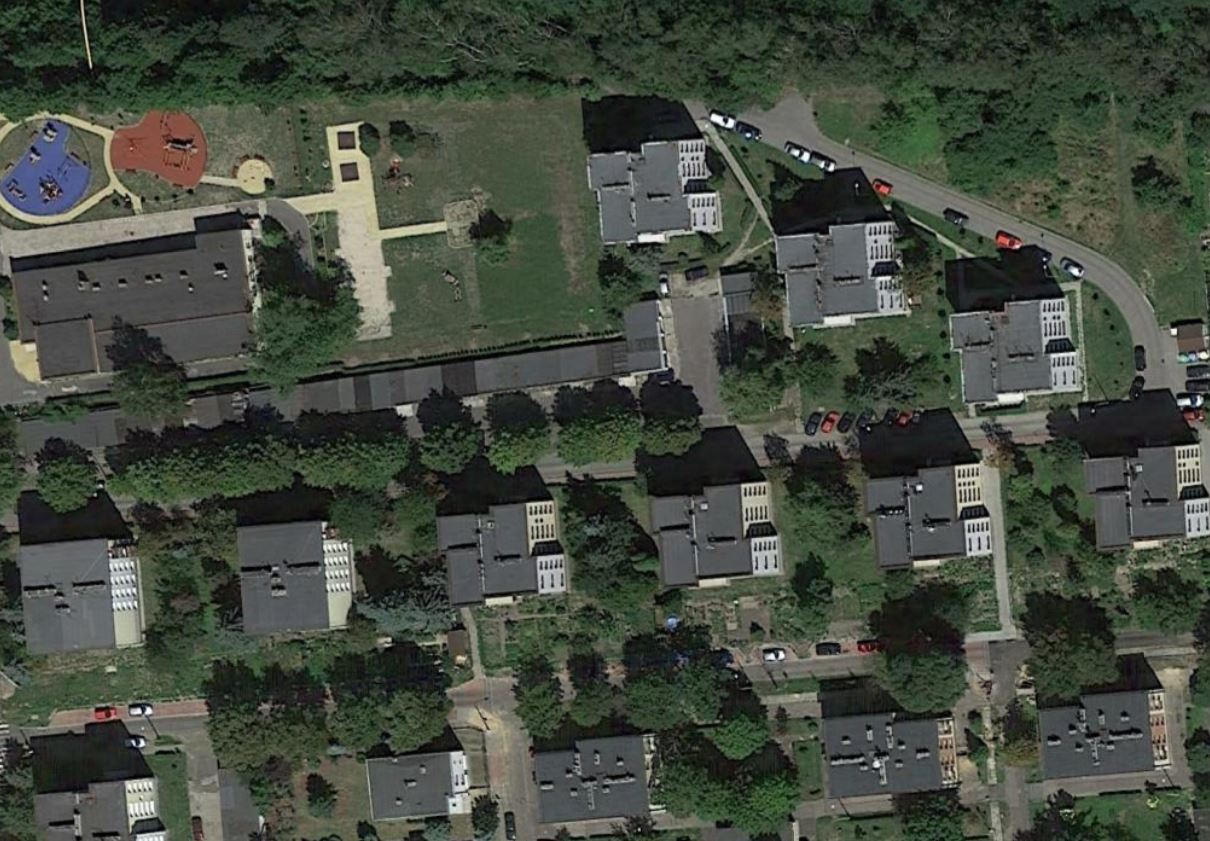block of flats: (2, 219, 264, 381), (10, 531, 152, 664), (225, 509, 367, 642), (429, 488, 571, 621), (644, 469, 786, 602), (859, 443, 1001, 576), (946, 287, 1088, 420), (771, 210, 913, 343), (582, 128, 724, 261), (1079, 428, 1210, 561), (1030, 681, 1173, 785), (819, 702, 962, 806), (528, 727, 671, 831), (25, 771, 172, 841), (359, 742, 473, 826)
garage: (6, 293, 677, 467)
